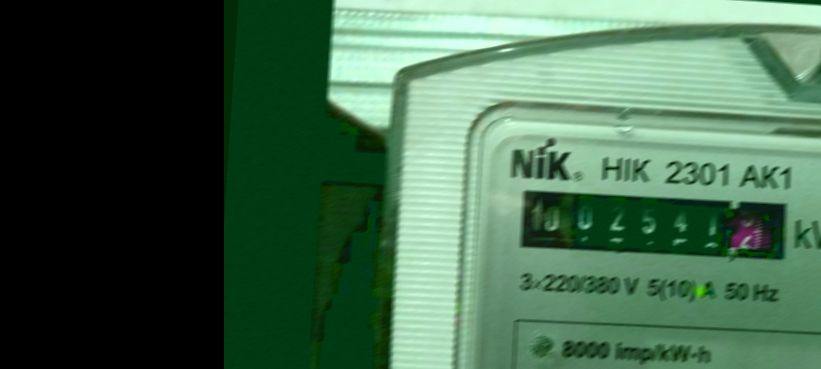0: (575, 199, 596, 233), (544, 203, 562, 233)
1: (703, 205, 721, 238)
2: (606, 200, 629, 235)
4: (672, 203, 691, 236)
5: (640, 204, 658, 237)
6: (737, 231, 754, 253)
screen: (505, 172, 810, 281)
